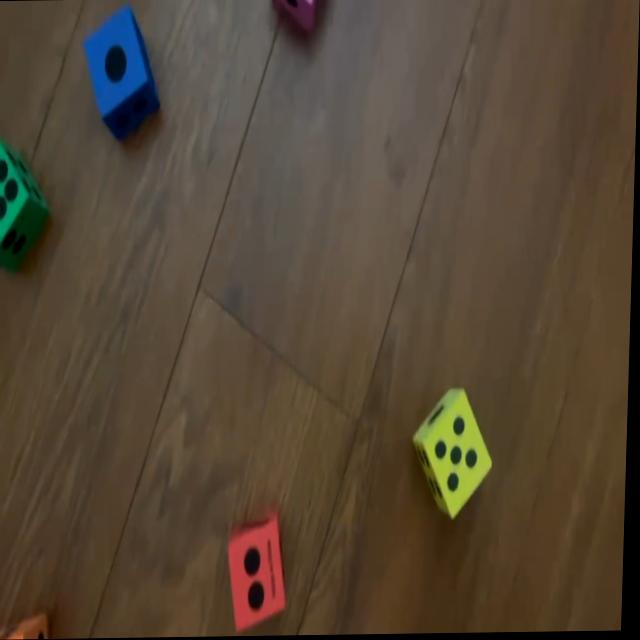blue_block: (84, 1, 160, 138)
red_block: (231, 512, 292, 631)
